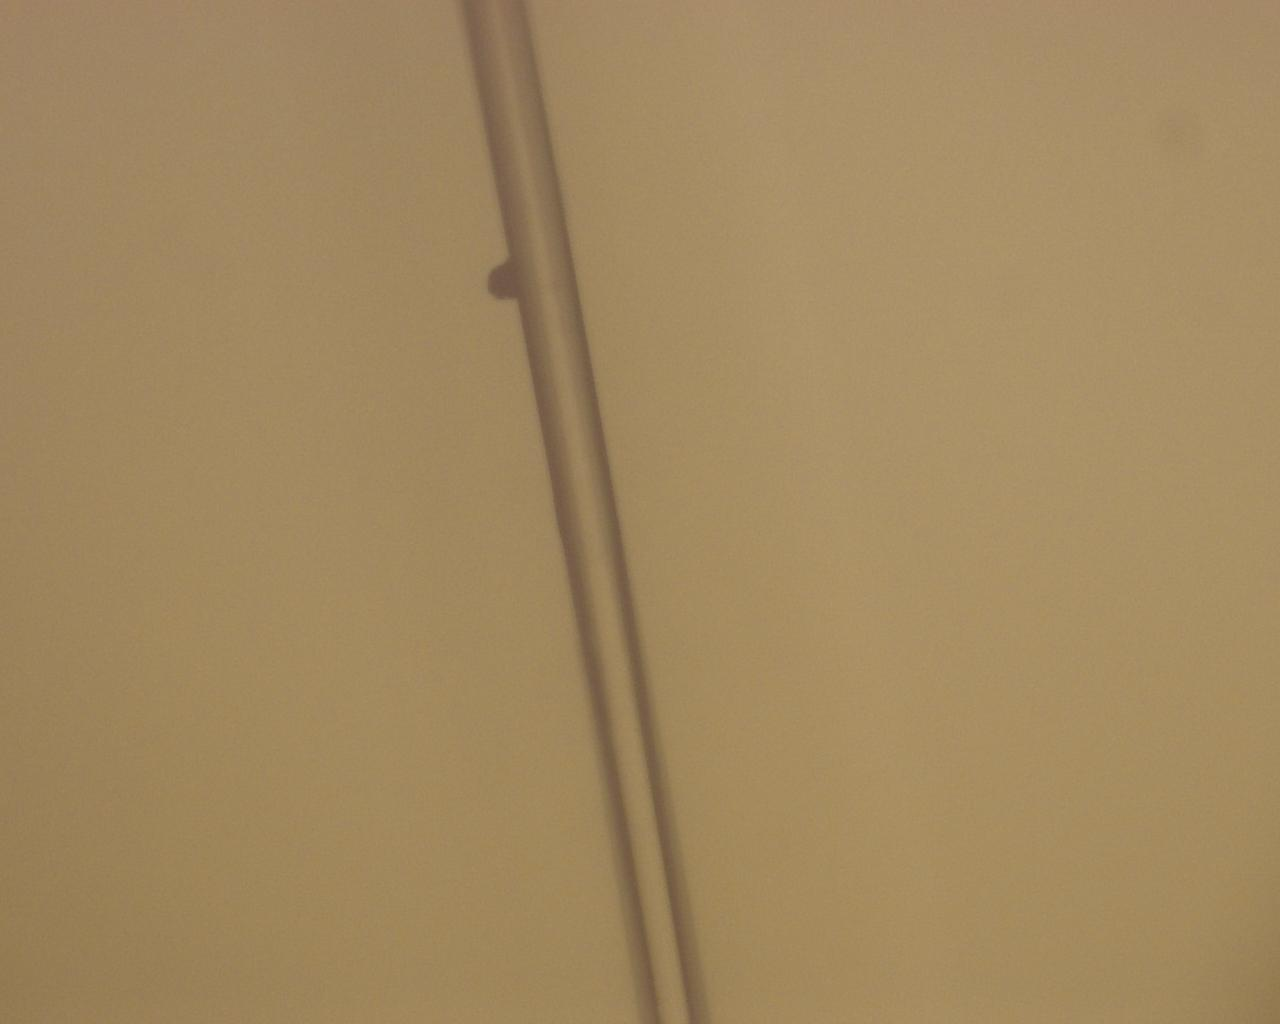fiber: (0, 595, 710, 782), (77, 0, 793, 125), (807, 83, 1280, 223), (793, 487, 1280, 602)
